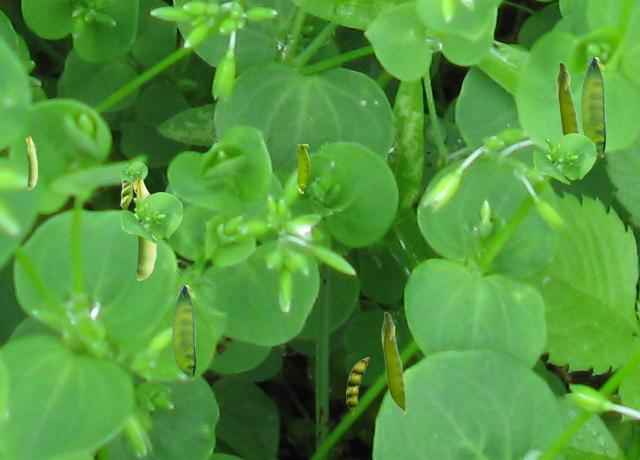pea: (381, 311, 406, 414), (131, 176, 155, 279), (581, 57, 604, 156), (172, 285, 194, 379), (556, 61, 580, 134), (346, 357, 369, 414), (25, 135, 36, 188), (297, 144, 308, 192), (120, 180, 133, 209)
